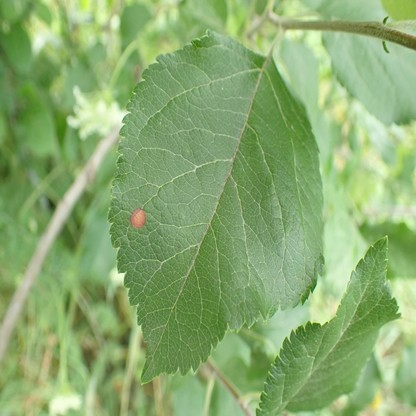frogeye_leaf_spot: (130, 208, 146, 229)
